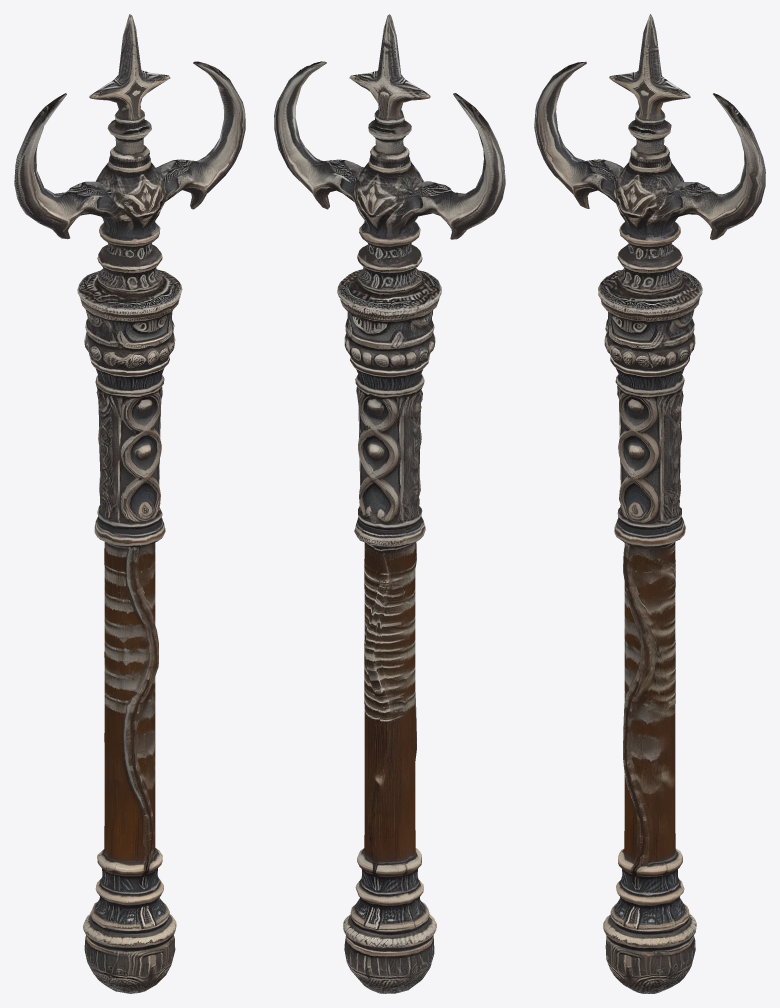
Rendered from wpn-stormstaff.glb.
3 views of the same model, side by side, from view 1: azimuth 30°, elevation 25°; view 2: azimuth 150°, elevation 25°; view 3: azimuth 330°, elevation 25° (orthographic).
Size of the model in its own units: 0.4467 by 1.8 by 0.174.
1 material, 1 textured.
